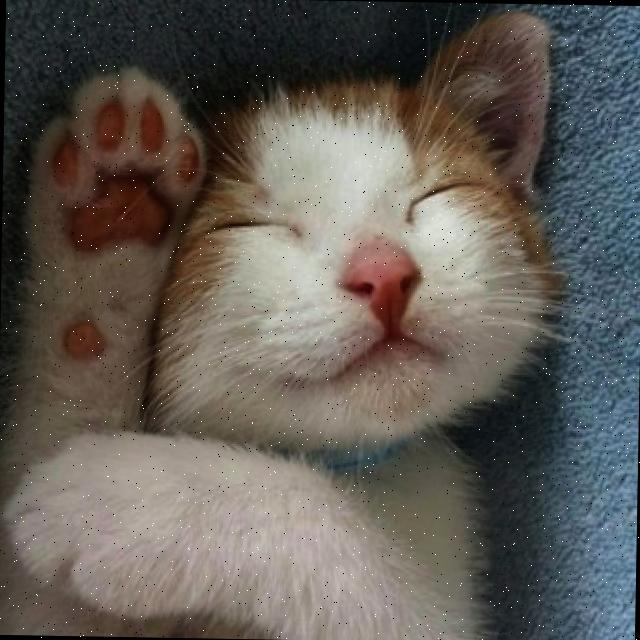Happy: (187, 155, 520, 416)
